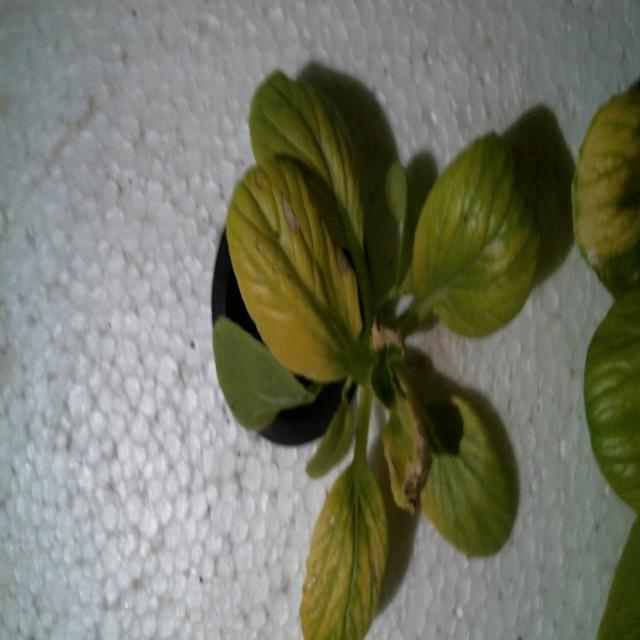pakcoy_tidak_sehat: (207, 22, 548, 640)
